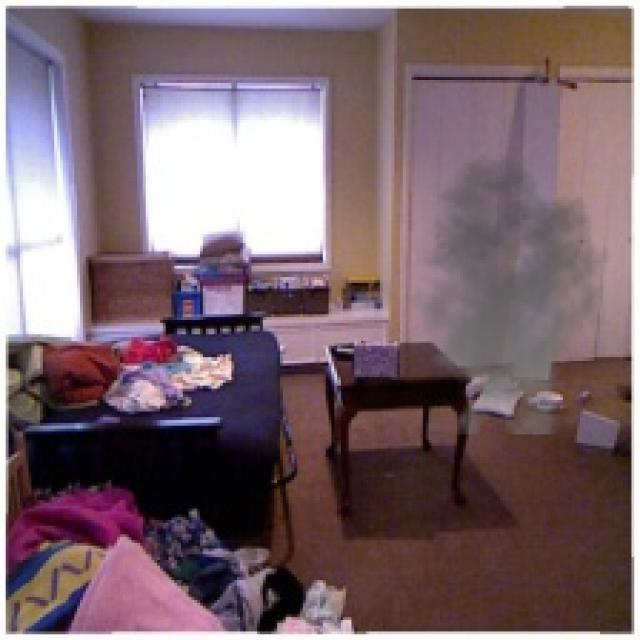smoke: (397, 154, 612, 434)
